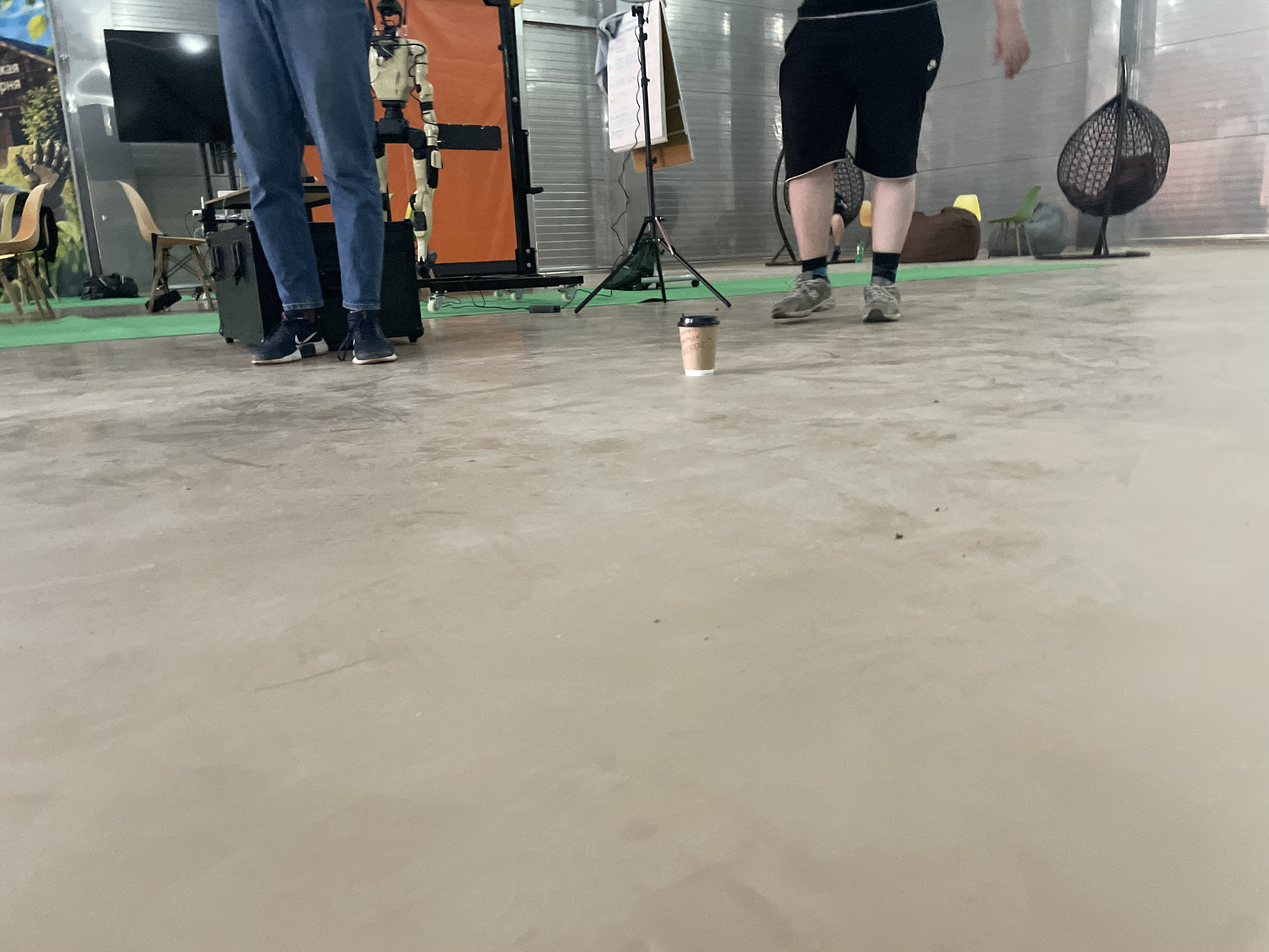cup: (677, 313, 720, 377)
